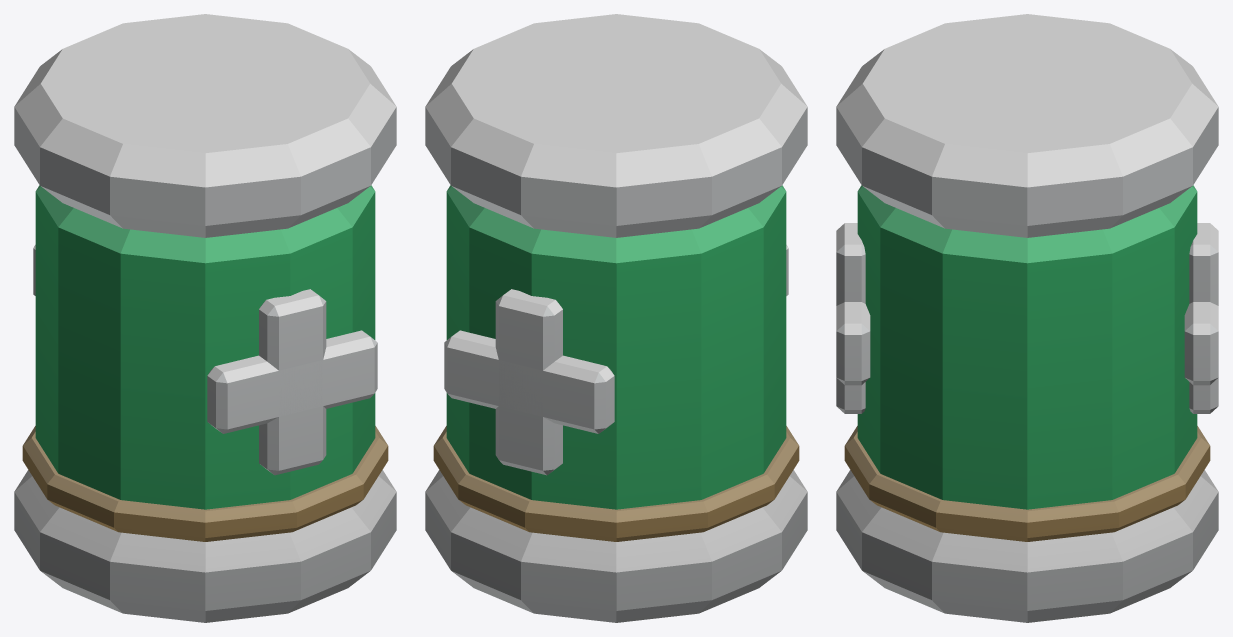
The model's file is pickup.glb.
3 renders of one model, left to right at view 1: azimuth 30°, elevation 25°; view 2: azimuth 150°, elevation 25°; view 3: azimuth 270°, elevation 25°, orthographic.
Parts seen in each view (by area): view 1: mesh_pickup; view 2: mesh_pickup; view 3: mesh_pickup.
Boxes of the visible parts, x1,y1,x2,y2 form: mesh_pickup: [14, 14, 396, 622]; mesh_pickup: [425, 14, 807, 622]; mesh_pickup: [836, 14, 1218, 622].
Bounding box in the file's own units: 0.45 × 0.61 × 0.45.
